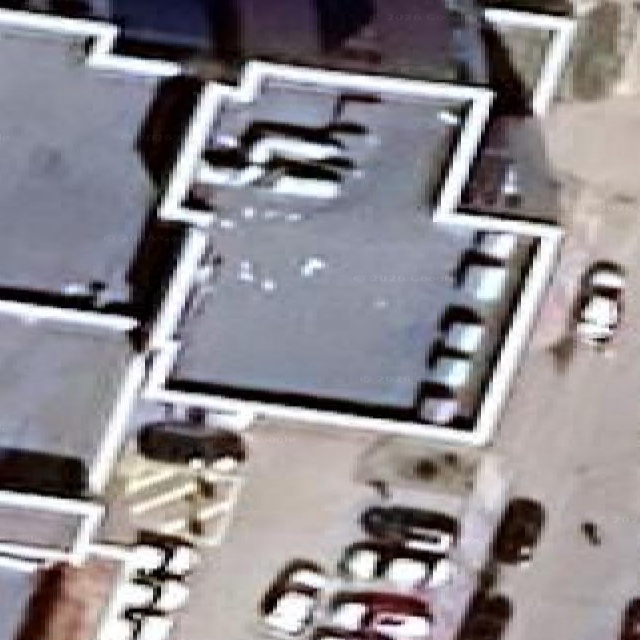car: (338, 540, 451, 589), (325, 591, 431, 639), (259, 560, 325, 637), (137, 421, 245, 465), (360, 505, 458, 553), (576, 261, 624, 345), (494, 498, 544, 563)
